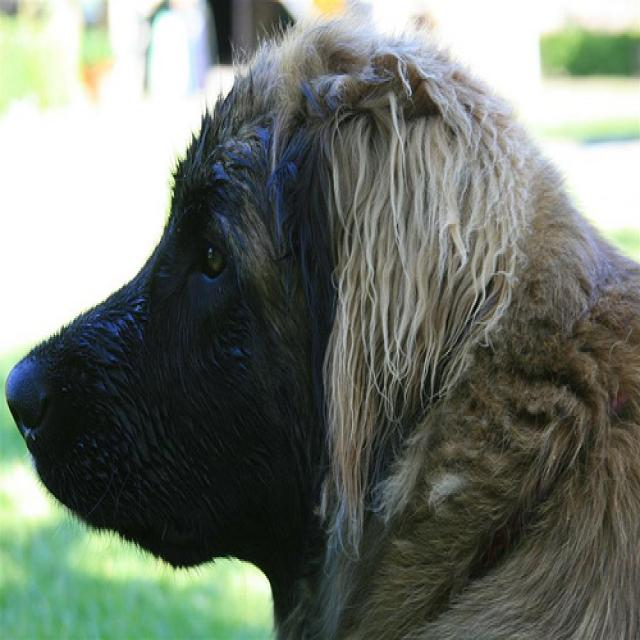dog-leonberger: (1, 11, 637, 636)
